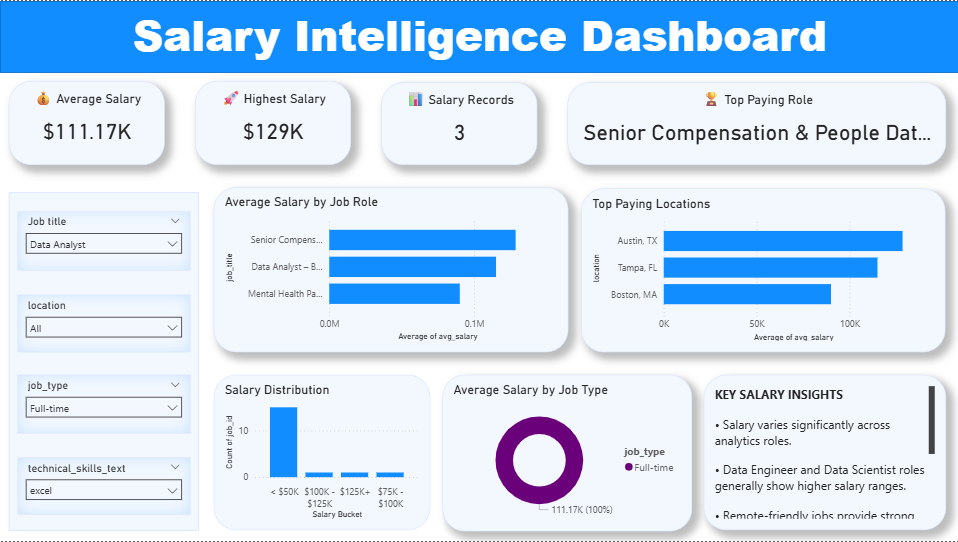

The page's visual inventory and layout, read from the dashboard file:
{"tool":"powerbi","page":{"name":"Salary Intelligence","canvas":[1280,720],"ordinal":2},"visuals":[{"type":"shape","box":[0,0,1280,95.7],"z":0},{"type":"textbox","box":[0,0,1280,95],"z":1000},{"type":"card","title":"💰 Average Salary","fields":{"Values":["Avg(cleaned_jobs_with_skills.avg_salary)"]},"box":[11.7,106.7,208.3,111.7],"z":2000},{"type":"donutChart","title":"Average Salary by Job Type","fields":{"Y":["Avg(cleaned_jobs_with_skills.avg_salary)"],"Category":["cleaned_jobs_with_skills.job_type"]},"box":[590,498.6,332.9,208.6],"z":3000},{"type":"textbox","box":[938.6,498.6,322.9,207.1],"z":4000},{"type":"clusteredBarChart","title":"Average Salary by Job Role","fields":{"Category":["cleaned_jobs_with_skills.job_title"],"Y":["Avg(cleaned_jobs_with_skills.avg_salary)"]},"box":[284.3,248.6,472.9,220],"z":5000},{"type":"card","title":"🏆 Top Paying Role","fields":{"Values":["cleaned_jobs_with_skills.Highest Paying Role"]},"box":[756.7,108.3,505,110],"z":6000},{"type":"card","title":"📊 Salary Records","fields":{"Values":["cleaned_jobs_with_skills.Jobs With Salary Data"]},"box":[508.3,108.3,208.3,110],"z":7000},{"type":"card","title":"🚀 Highest Salary","fields":{"Values":["cleaned_jobs_with_skills.Highest Salary"]},"box":[260,106.7,208.3,111.7],"z":8000},{"type":"clusteredBarChart","title":"Top Paying Locations","fields":{"Category":["cleaned_jobs_with_skills.location"],"Y":["Avg(cleaned_jobs_with_skills.avg_salary)"]},"box":[775.7,250,485.7,218.6],"z":9000},{"type":"columnChart","title":"Salary Distribution","fields":{"Category":["cleaned_jobs_with_skills.Salary Bucket"],"Y":["CountNonNull(cleaned_jobs_with_skills.job_id)"]},"box":[284.3,498.6,288.6,207.1],"z":10000},{"type":"shape","box":[11.7,255,253.3,451.7],"z":11000},{"type":"slicer","fields":{"Values":["cleaned_jobs_with_skills.Career Role"]},"box":[22.9,280,230,80],"z":12000},{"type":"slicer","fields":{"Values":["cleaned_jobs_with_skills.location"]},"box":[22.9,391,230,77.1],"z":13000},{"type":"slicer","fields":{"Values":["cleaned_jobs_with_skills.job_type"]},"box":[22.9,499,230,78.6],"z":14000},{"type":"slicer","fields":{"Values":["cleaned_jobs_with_skills.technical_skills_text"]},"box":[22.9,608.6,230,77.1],"z":15000}]}

Visuals, with their boxes in screenshot pixels (x1, y1, x2, y2), scaled from the page's 1280x720 canvas onto the 958x542 screenshot:
shape: BBox(0, 0, 957, 72)
textbox: BBox(0, 0, 957, 72)
"💰 Average Salary" card: BBox(9, 80, 165, 164)
"Average Salary by Job Type" donutChart: BBox(442, 375, 691, 532)
textbox: BBox(702, 375, 944, 531)
"Average Salary by Job Role" clusteredBarChart: BBox(213, 187, 567, 353)
"🏆 Top Paying Role" card: BBox(566, 82, 944, 164)
"📊 Salary Records" card: BBox(380, 82, 536, 164)
"🚀 Highest Salary" card: BBox(195, 80, 350, 164)
"Top Paying Locations" clusteredBarChart: BBox(581, 188, 944, 353)
"Salary Distribution" columnChart: BBox(213, 375, 429, 531)
shape: BBox(9, 192, 198, 532)
slicer - cleaned_jobs_with_skills.Career Role: BBox(17, 211, 189, 271)
slicer - cleaned_jobs_with_skills.location: BBox(17, 294, 189, 352)
slicer - cleaned_jobs_with_skills.job_type: BBox(17, 376, 189, 435)
slicer - cleaned_jobs_with_skills.technical_skills_text: BBox(17, 458, 189, 516)
